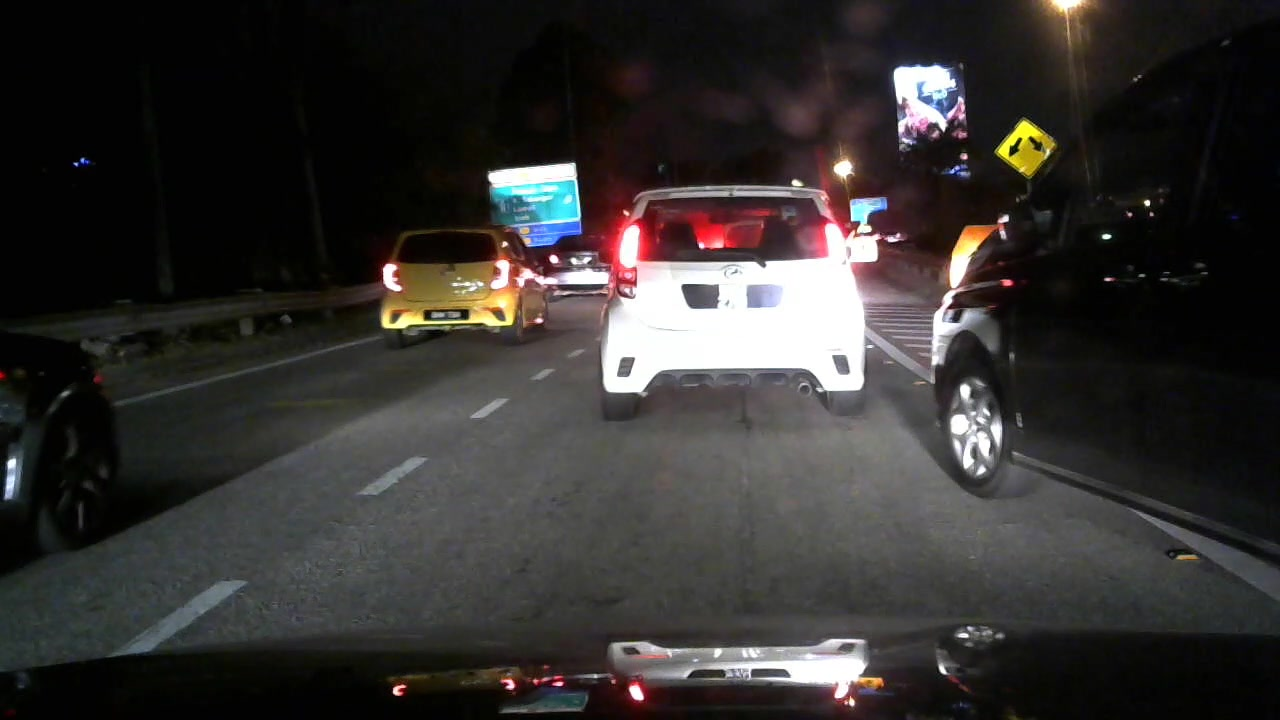Car: (924, 92, 1280, 588), (594, 172, 862, 427), (1, 309, 130, 547), (362, 223, 562, 352), (543, 217, 620, 311)
